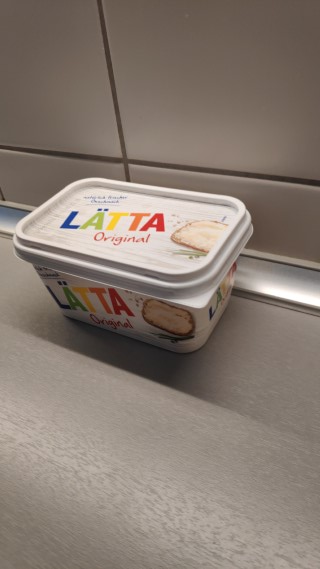laetta: (12, 175, 255, 354)
